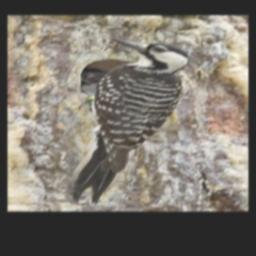Woodpecker: (68, 38, 191, 205)
